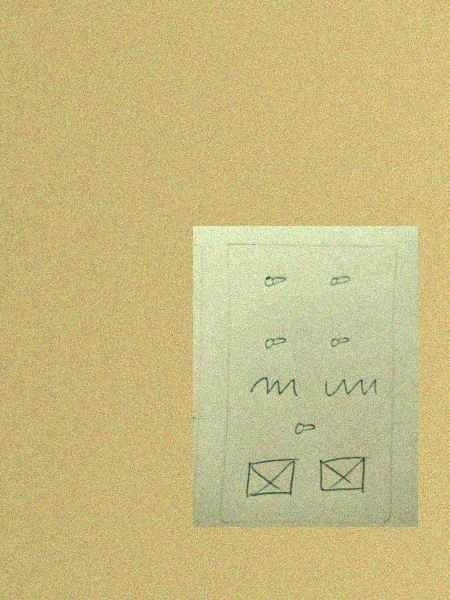image: (314, 450, 374, 498), (244, 453, 301, 503)
switch: (323, 267, 357, 292), (260, 328, 292, 354), (322, 329, 358, 352), (259, 268, 293, 291), (291, 416, 323, 439)
text: (319, 369, 382, 403), (245, 370, 303, 405)
